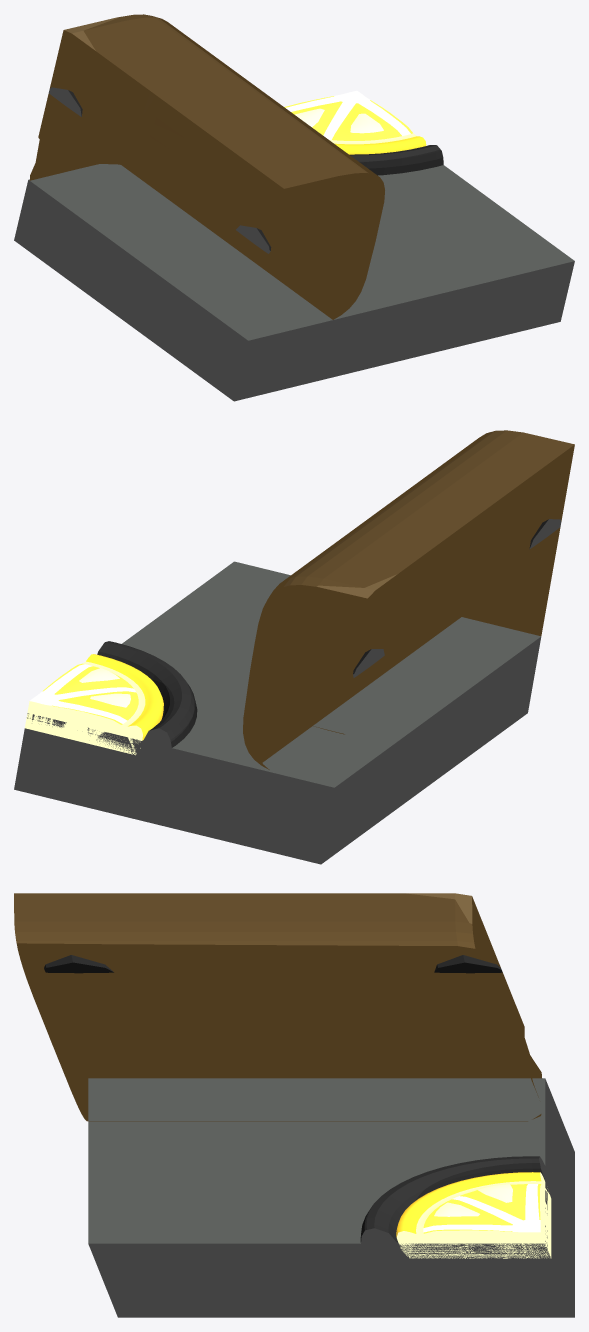
Rendered from pineapple_203.glb.
The picture shows the model from 3 angles, top to bottom: view 1: azimuth 30°, elevation 25°; view 2: azimuth 150°, elevation 25°; view 3: azimuth 270°, elevation 25°; orthographic projection. The views are drawn at different scales.
Parts seen in each view (by area): view 1: pineapple_203; view 2: pineapple_203; view 3: pineapple_203.
Part boxes in pixels (<box>): pineapple_203: <box>14,14,574,401</box>; pineapple_203: <box>14,430,574,864</box>; pineapple_203: <box>14,893,574,1317</box>.
Bounding box in the file's own units: 24 × 17.5 × 34.37.
